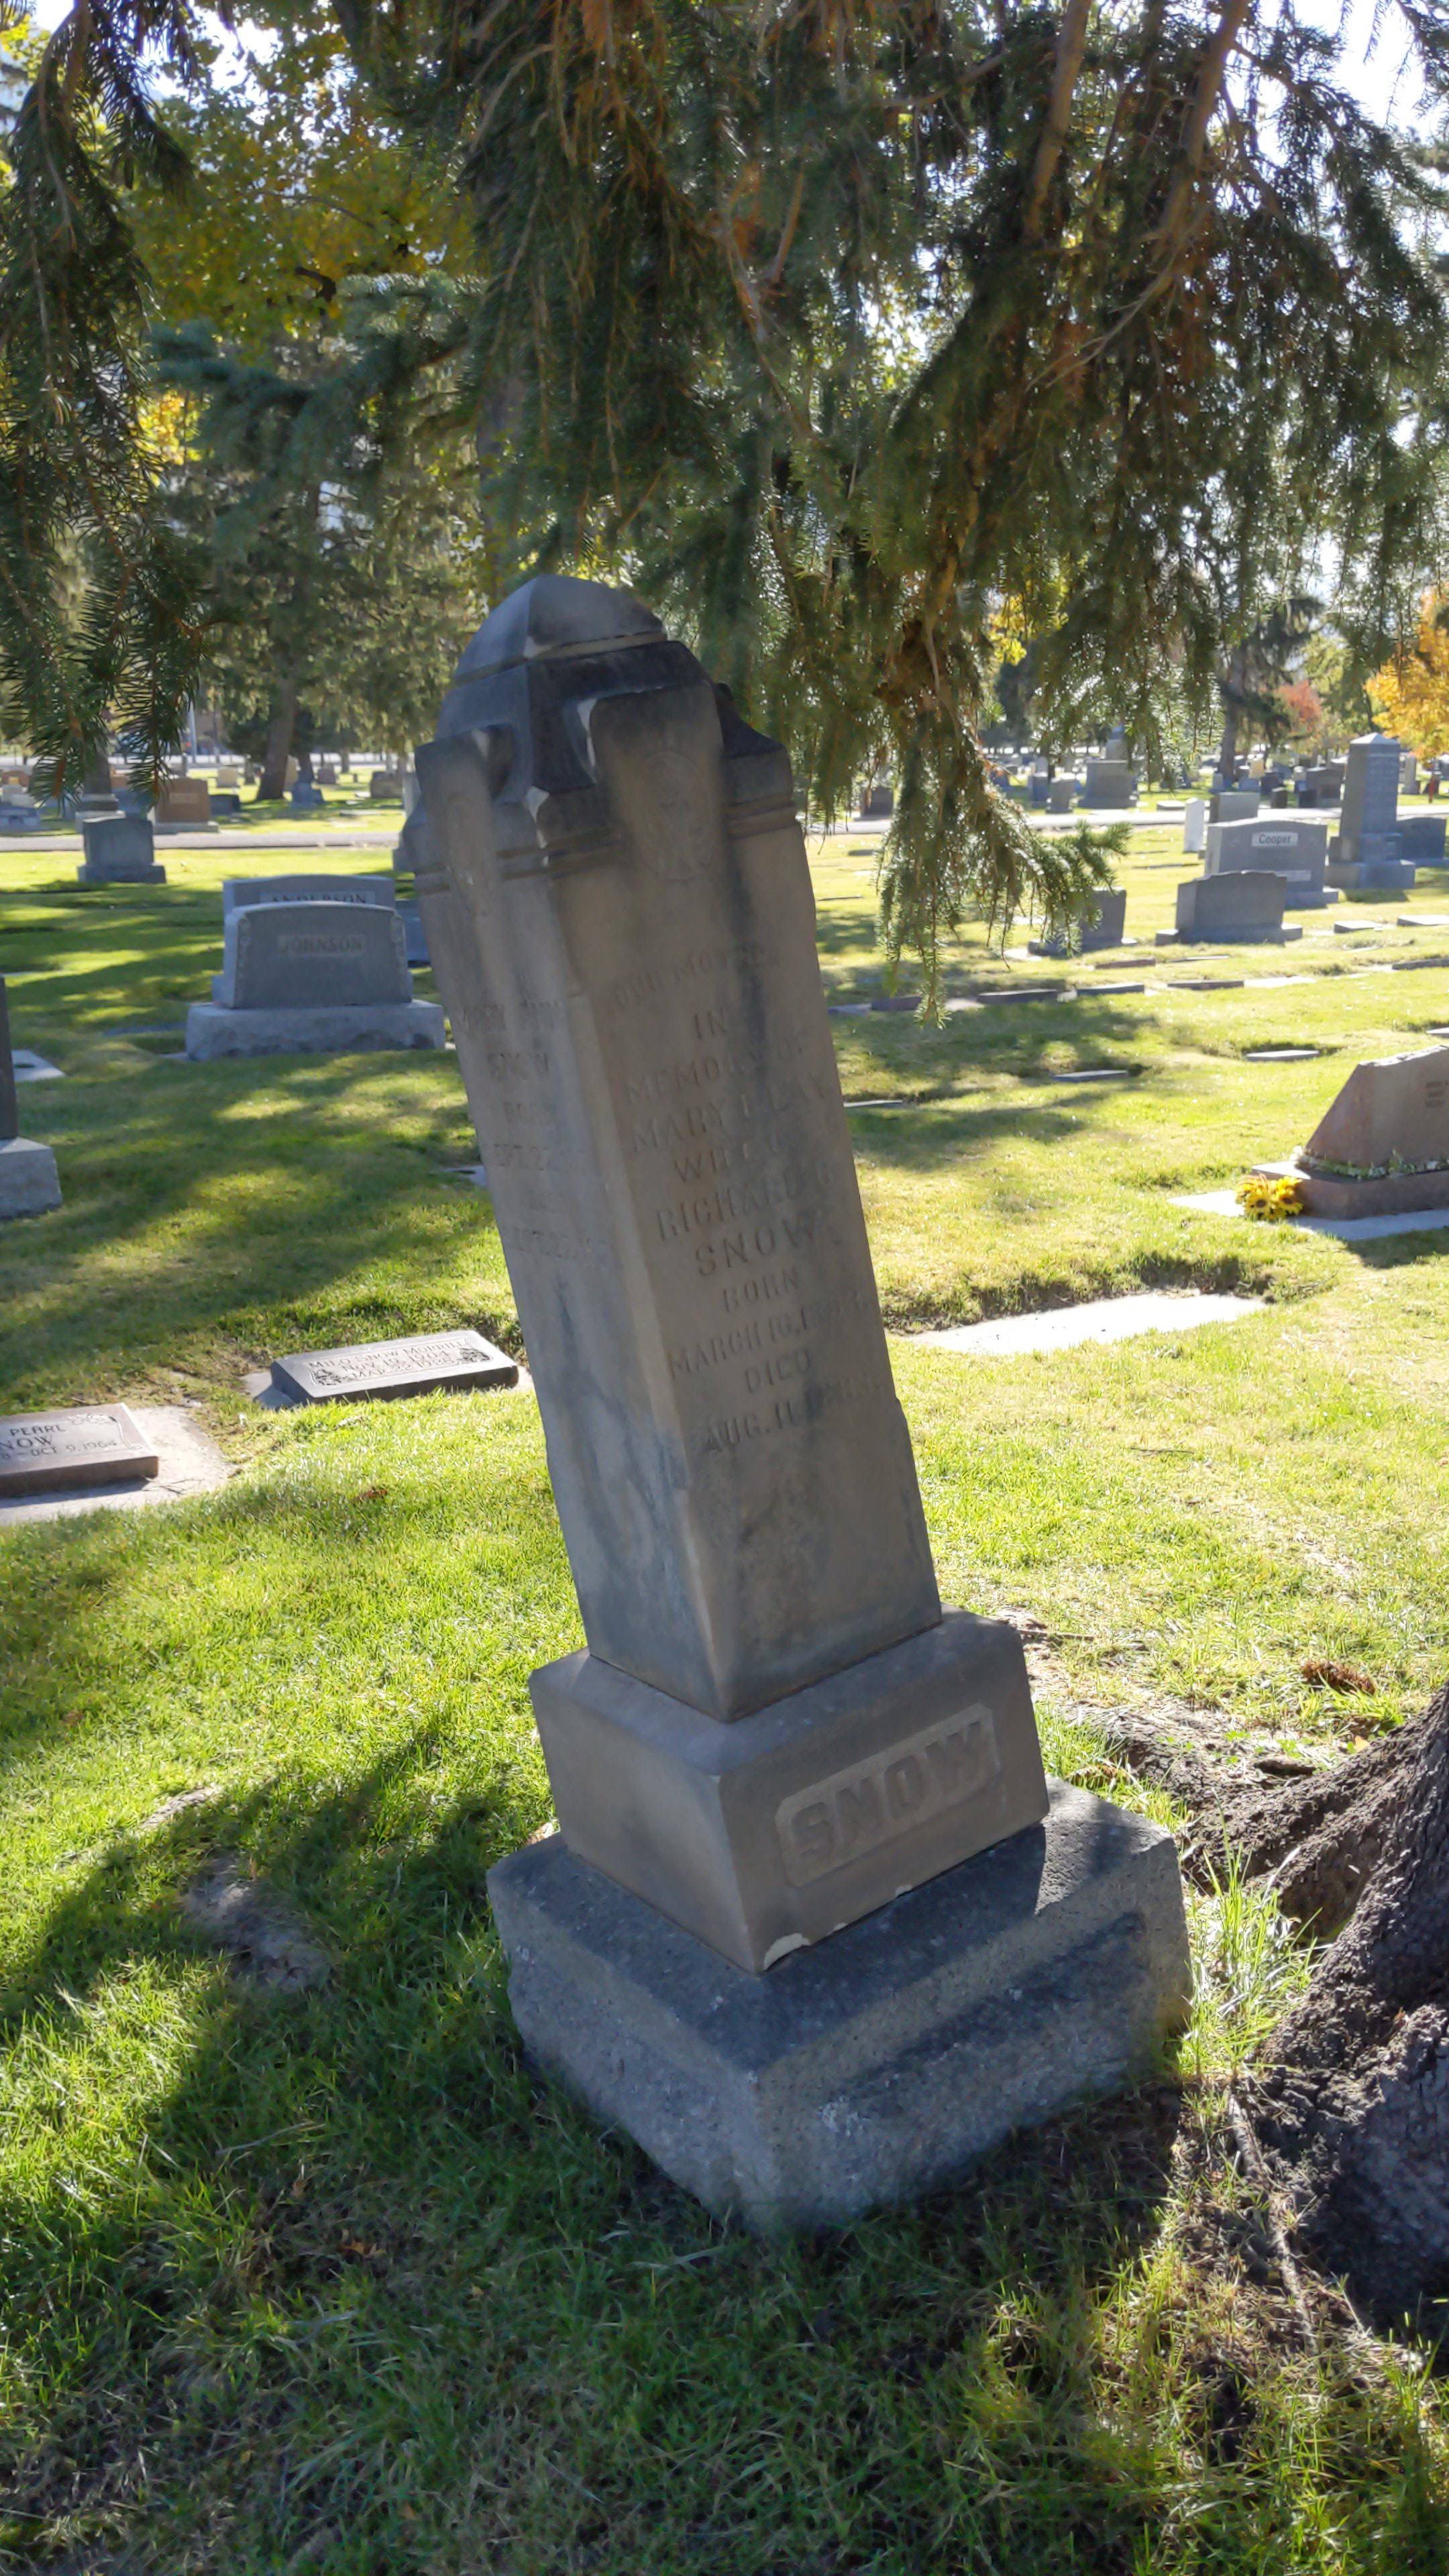obelisk: (400, 563, 1033, 1955)
